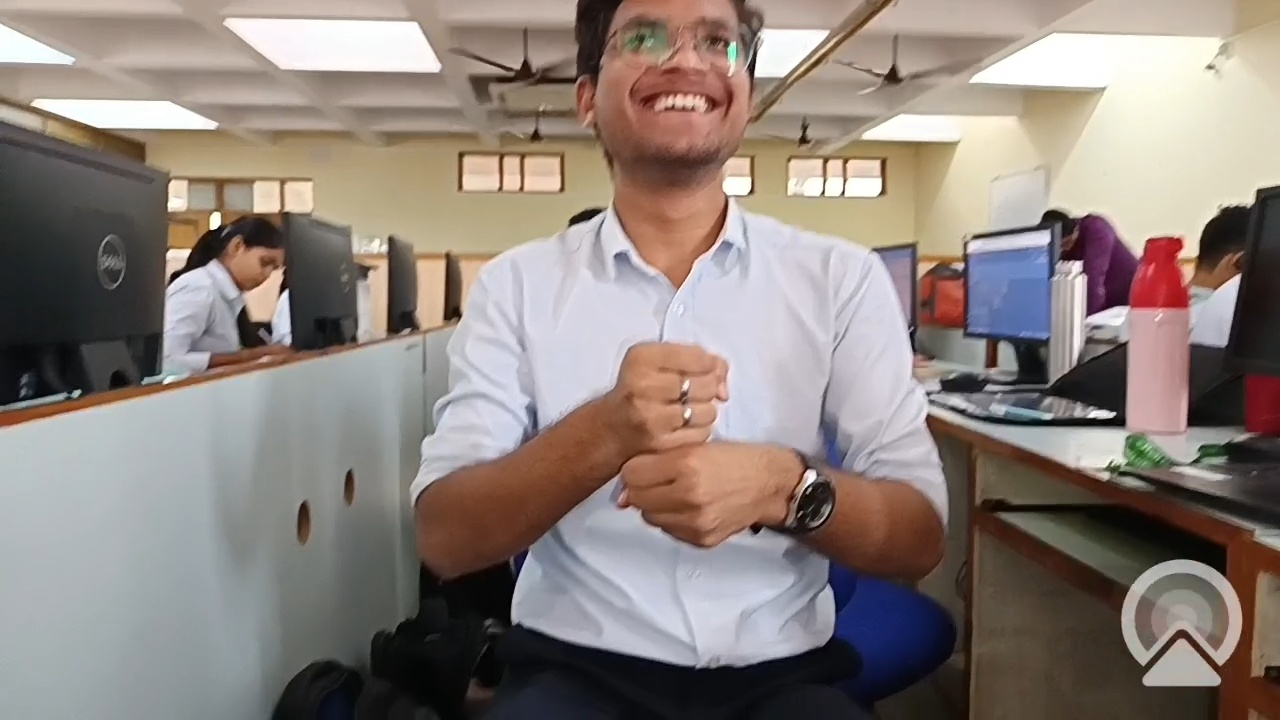G: (561, 329, 832, 567)
